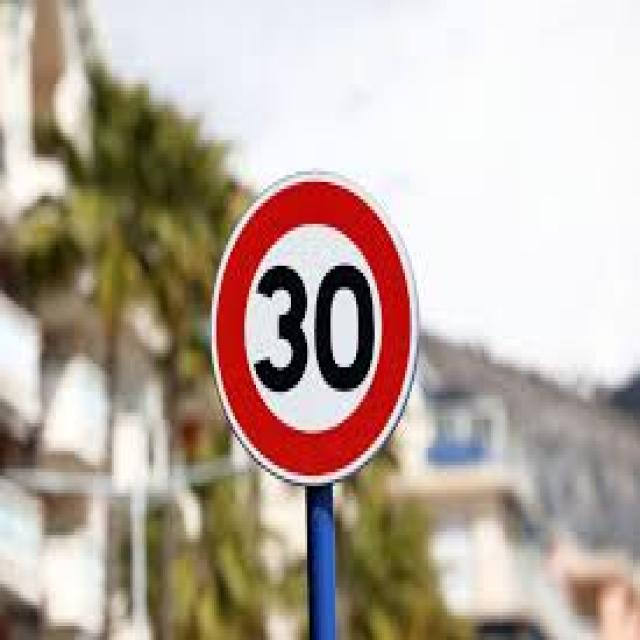Speed limit 30: (208, 169, 422, 487)
